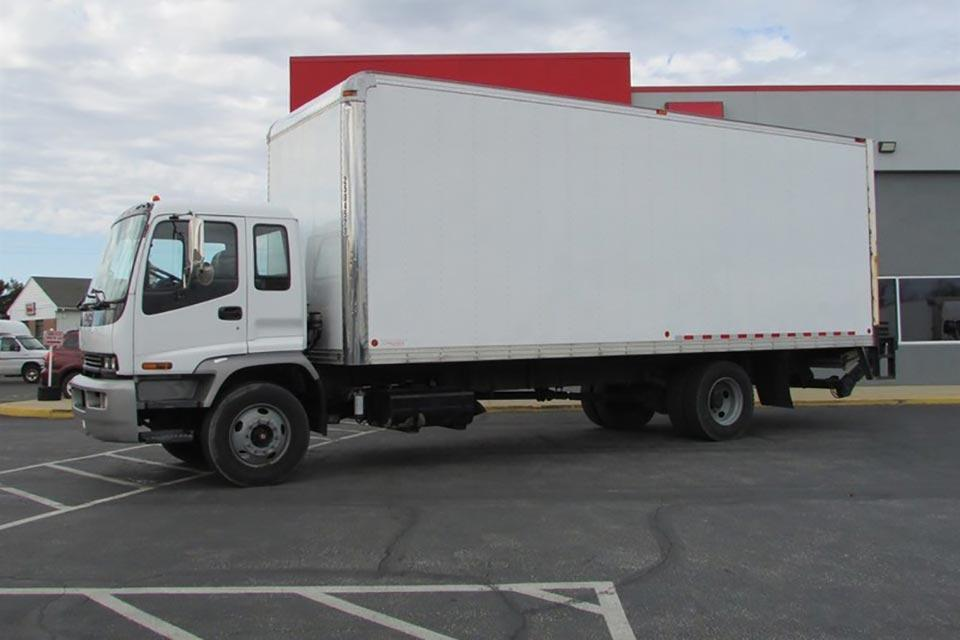truck: (69, 69, 880, 490)
